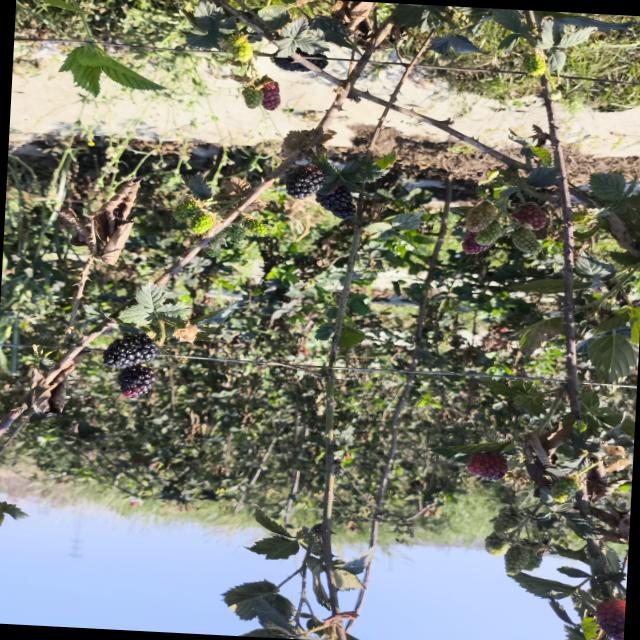maduro: (103, 335, 157, 368), (316, 184, 356, 220), (286, 165, 325, 200), (118, 365, 156, 398)
marron: (467, 453, 508, 480)
naranja: (511, 205, 547, 230), (462, 232, 492, 254), (261, 81, 281, 111)
verde: (466, 201, 498, 232), (512, 228, 542, 255), (552, 477, 582, 503), (505, 545, 529, 575), (494, 509, 521, 534), (476, 222, 502, 245), (188, 212, 214, 235), (485, 533, 508, 556), (523, 549, 544, 571), (243, 219, 270, 236), (243, 87, 263, 109), (228, 225, 246, 243)
